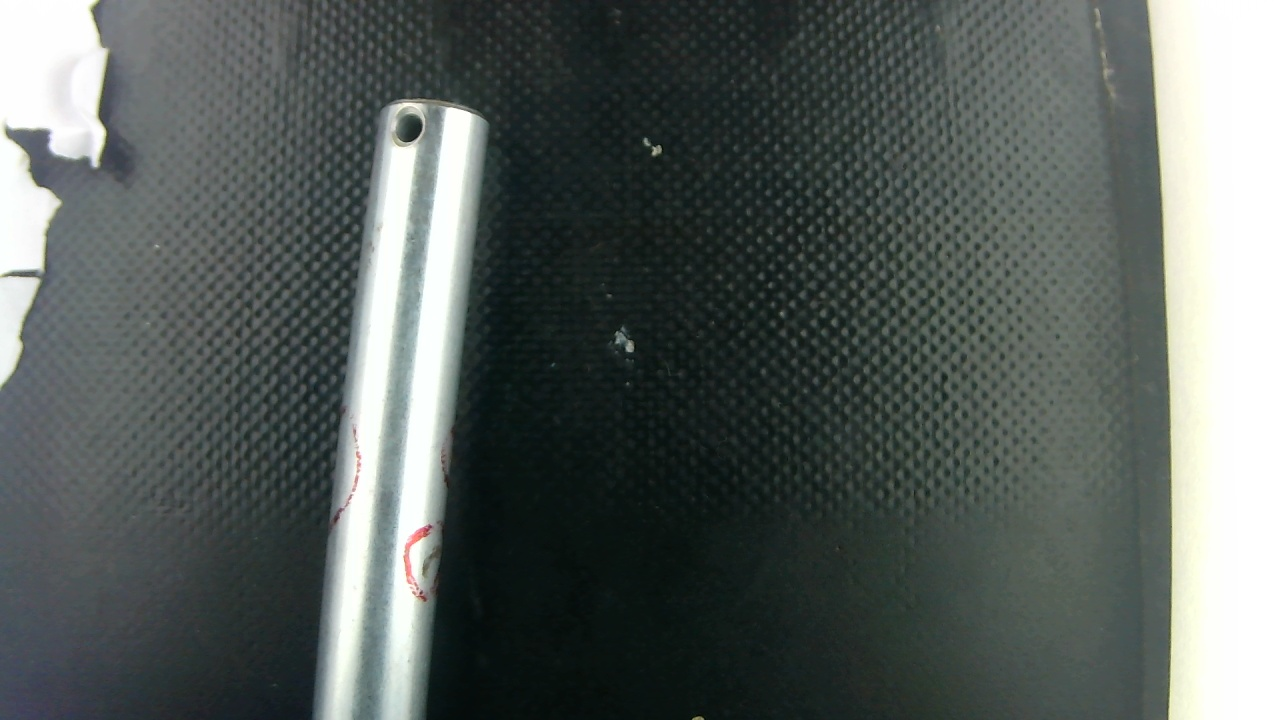rust_pin: (414, 537, 449, 583)
